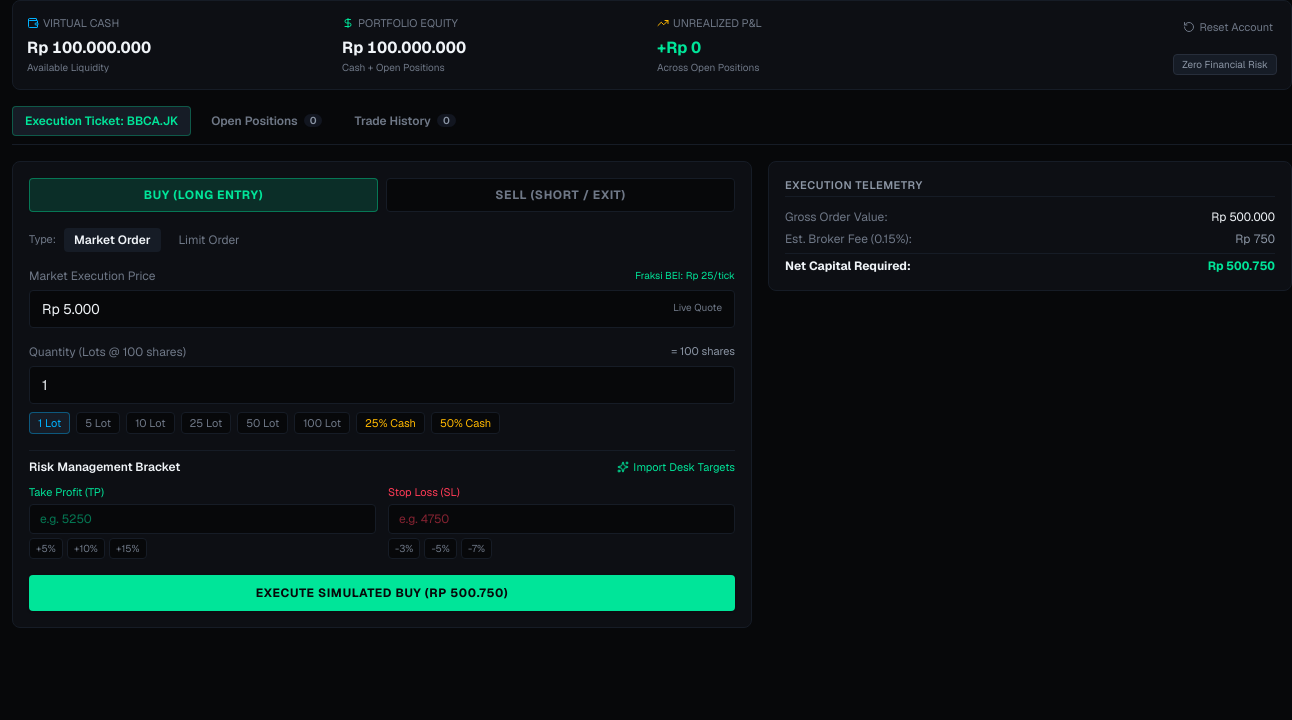
Test: PaperTradingDesk component › switches between BUY and SELL order side
The width and height of the screenshot is (1292, 720).
Click the button "SELL (Short / Exit)" at (560, 194), box [386,178,735,212]
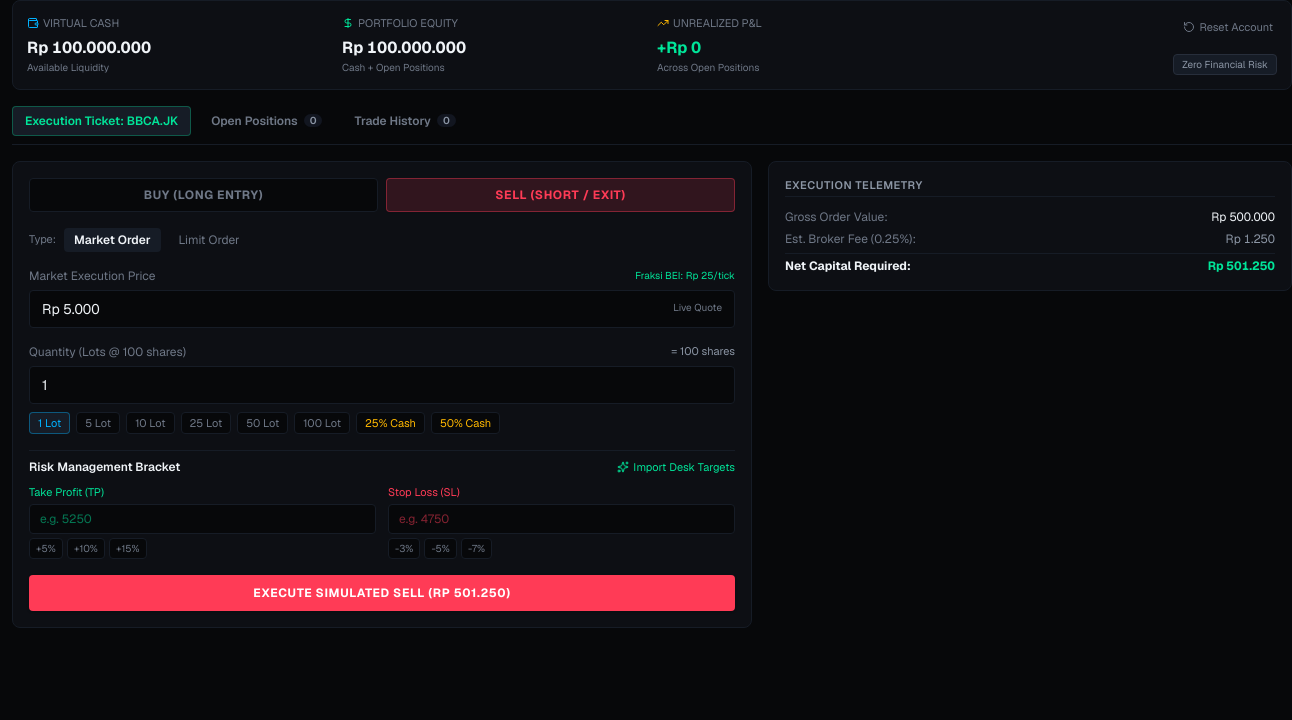
Check: the button "Execute Simulated SELL (Rp 501.250)" is shown, box [29,575,735,611]
Click the button "BUY (Long Entry)" at (204, 194), box [29,178,378,212]
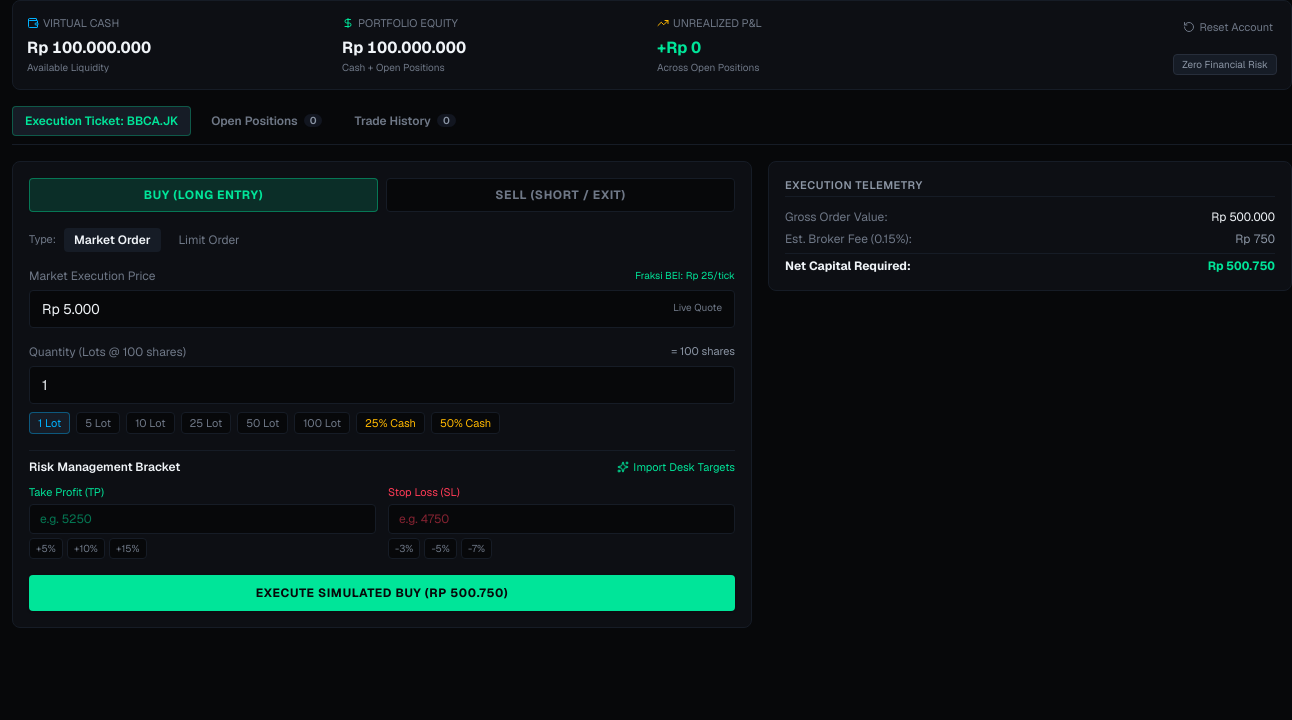
Check: the button "Execute Simulated BUY (Rp 500.750)" is shown, box [29,575,735,611]
